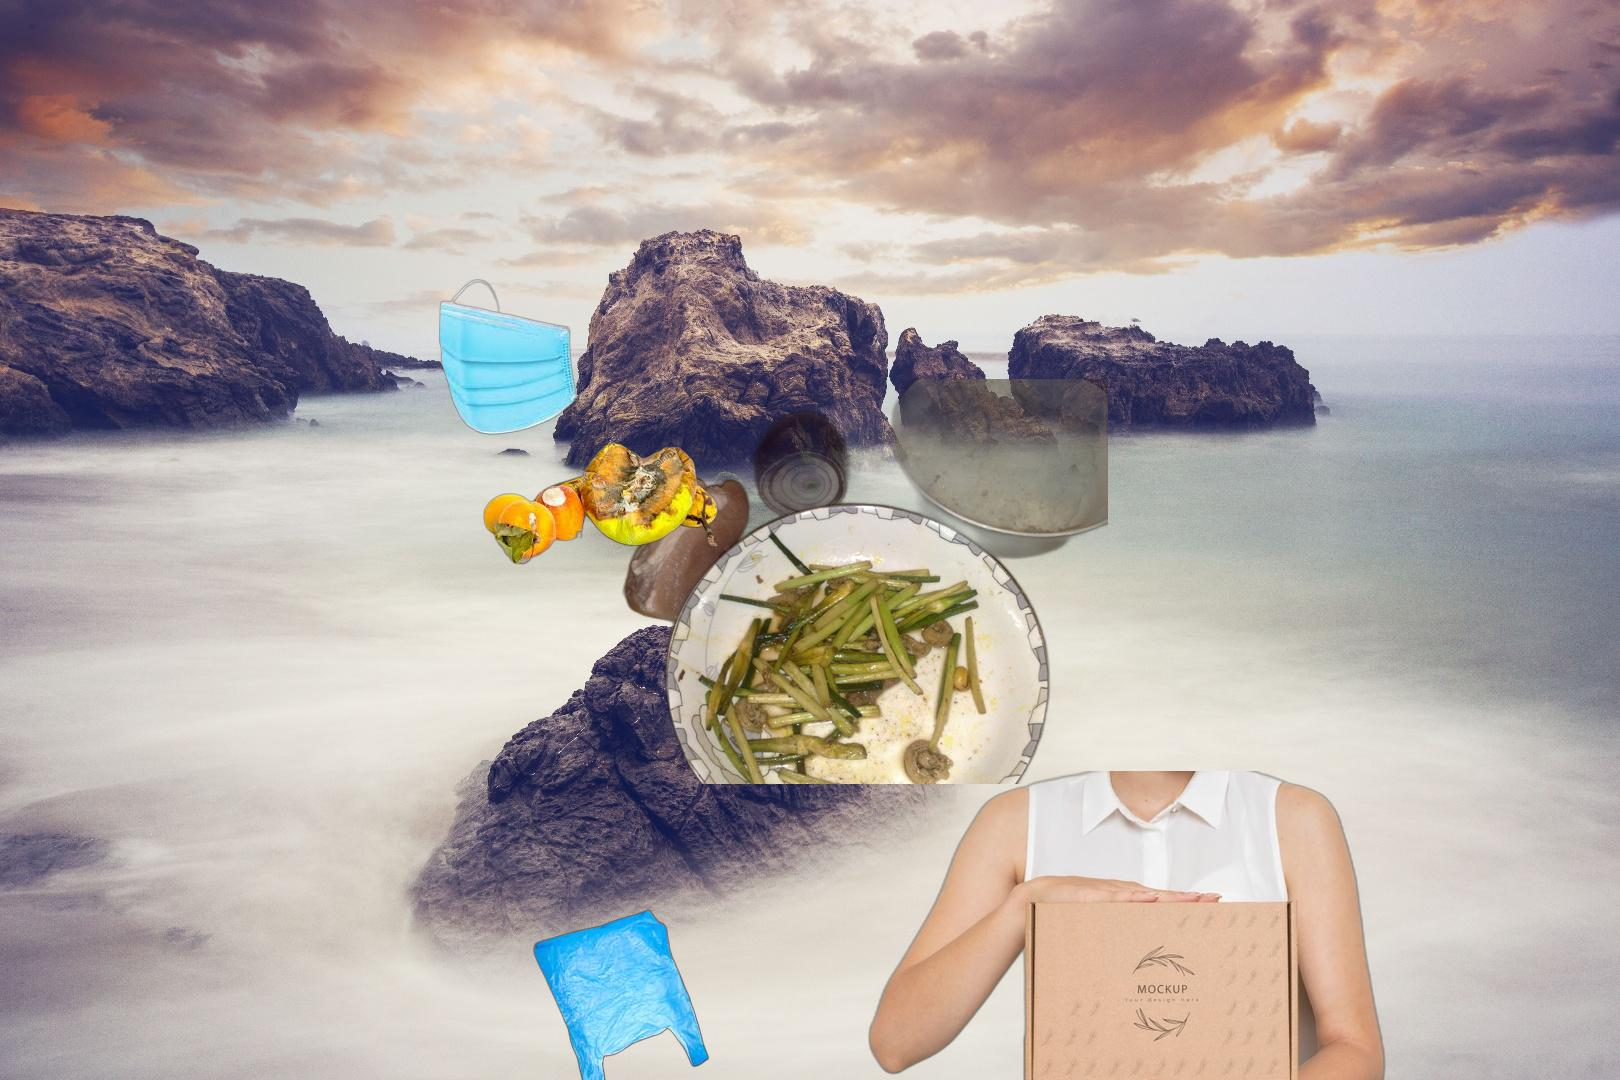biological: (618, 378, 1108, 783), (481, 439, 721, 567)
paper: (1374, 635, 1620, 906), (1182, 1053, 1620, 1080)
plastic-bag: (532, 909, 710, 1080)
trash: (438, 277, 579, 438)
trashbox-cardboard: (863, 771, 1390, 1080)
